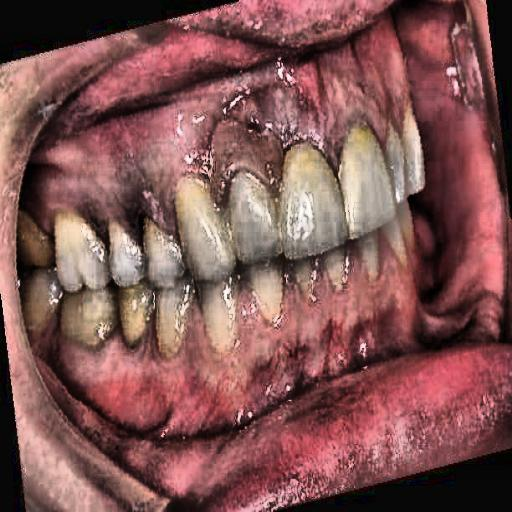Gingivitis: (68, 88, 290, 225)
